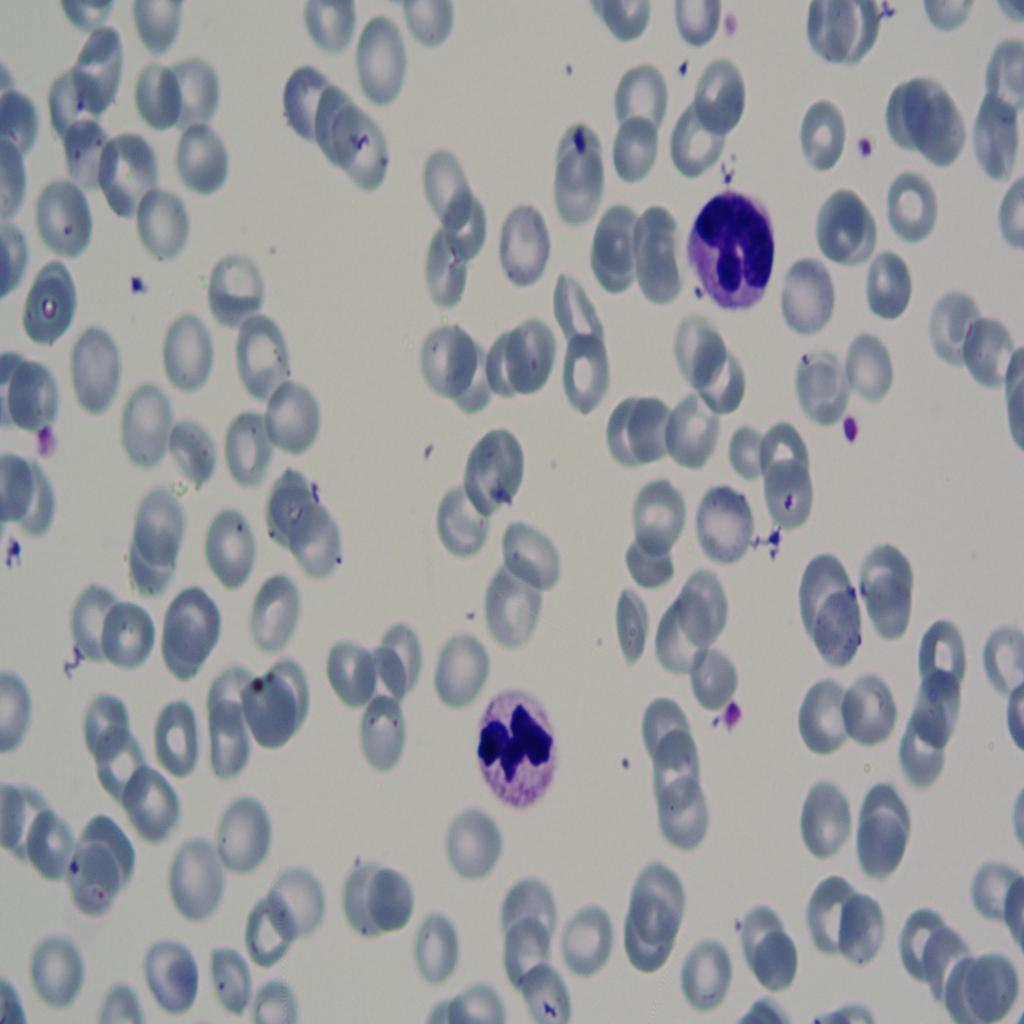Myeoblast: (687, 177, 770, 328)
Neutrofil: (469, 678, 559, 818)
Platelet: (848, 120, 884, 173), (713, 0, 746, 50), (838, 403, 865, 456), (33, 407, 57, 463), (120, 257, 150, 298), (572, 116, 594, 166), (670, 48, 690, 92), (722, 703, 740, 744)
